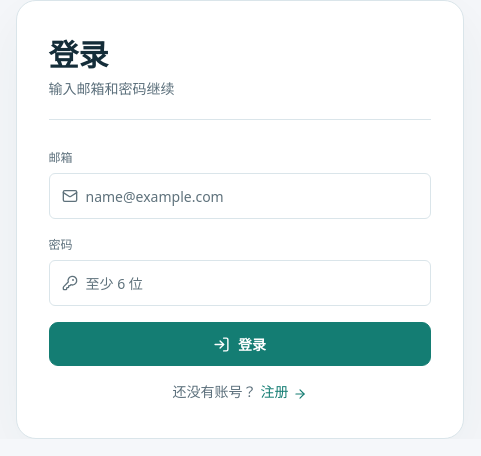
Test case: AuthPanel（账户登录面板） › restores the register link when registration is explicitly enabled
# 模式切换是文字链接式按钮，而不是第二个大按钮。
Click the button "注册" at x=284, y=392, box x1=260 y1=382 x2=306 y2=402
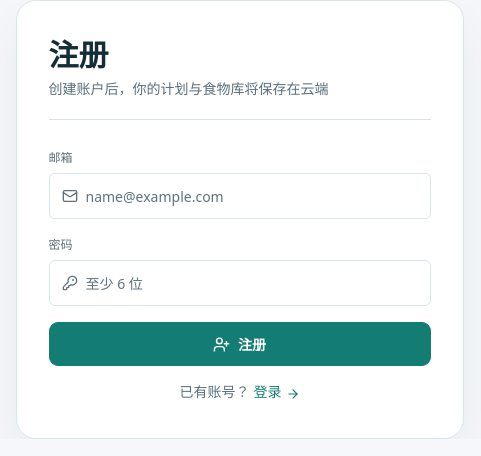
Check: the heading "注册" is shown, box x1=48 y1=34 x2=108 y2=75
Check: the button "登录" is shown, box x1=254 y1=382 x2=300 y2=402
